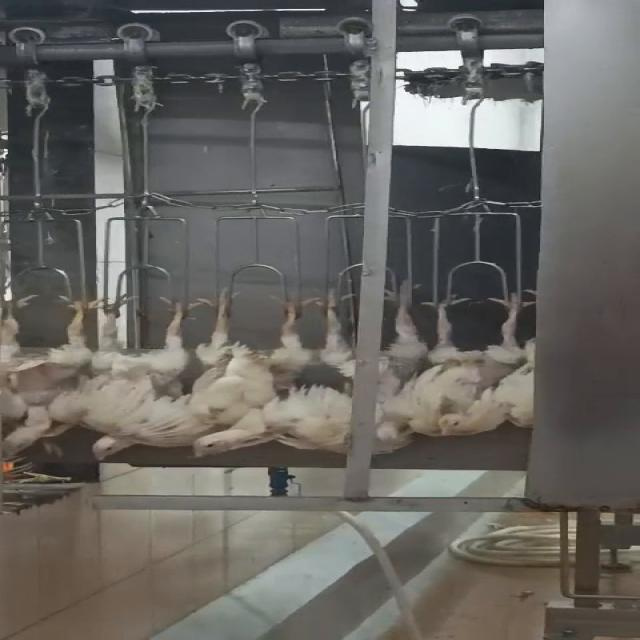chicken: (185, 282, 315, 463), (84, 288, 216, 465), (410, 288, 532, 446), (0, 291, 96, 460), (309, 285, 371, 455)
